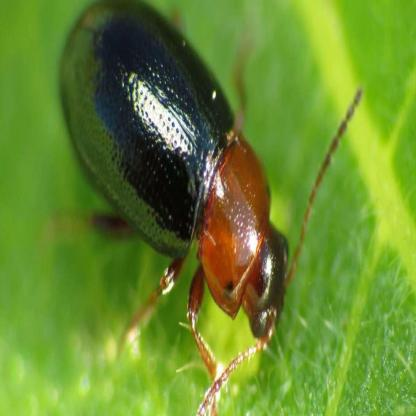beetle: (59, 2, 364, 408)
